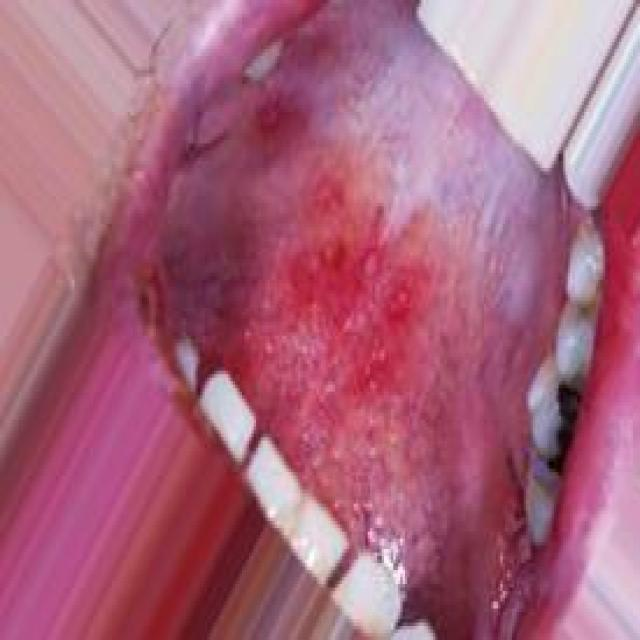caries: (525, 362, 592, 482)
